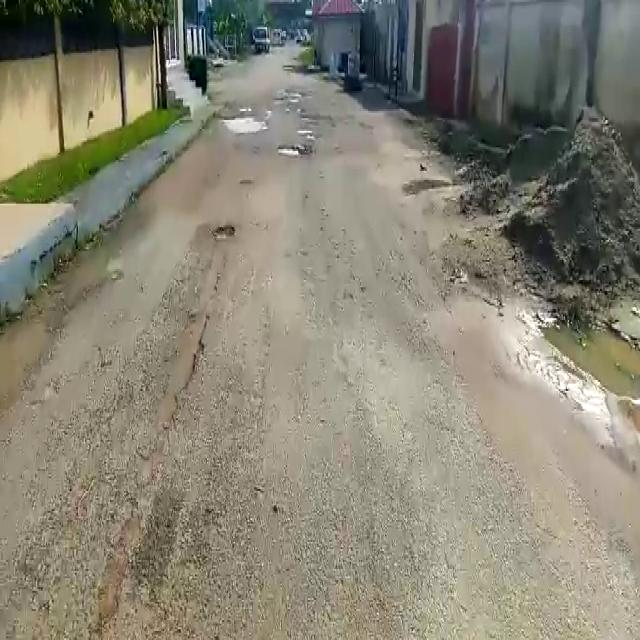Pothole: (218, 114, 268, 133), (274, 140, 308, 156), (213, 221, 236, 240)
